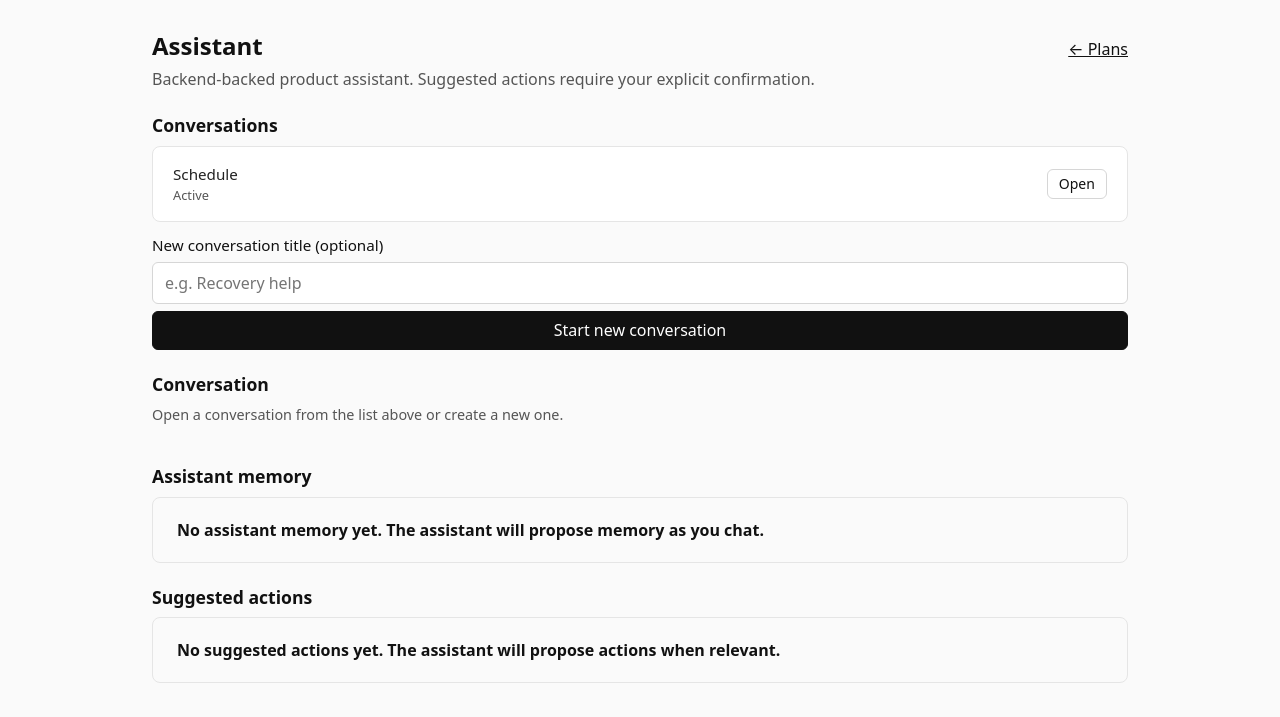
Scenario: AssistantPageClient (CP9) › authed + conversation with backend messages: final assistant content is backend-authored only
// Wait for conversations to load and click "Open" on conversation #11.
What coordinates should you click on to do the following:
click the button "Open"
I would click on:
 (1077, 184)
Its box is x1=1046 y1=169 x2=1107 y2=199.
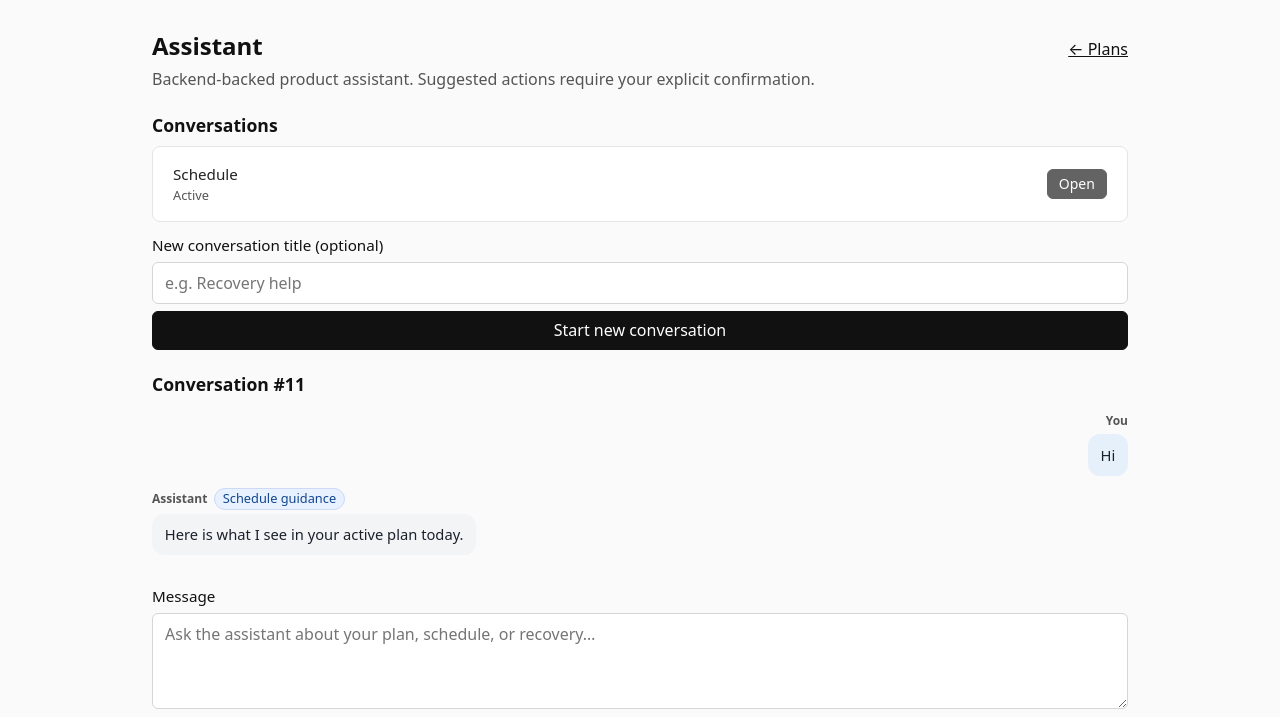
Expected: the text "Here is what I see in your active plan today." is shown, x1=152 y1=514 x2=476 y2=555
Expected: the text "Schedule guidance" is shown, x1=214 y1=488 x2=345 y2=510
Expected: the text box labelled "Message" is shown, x1=152 y1=613 x2=1128 y2=709
